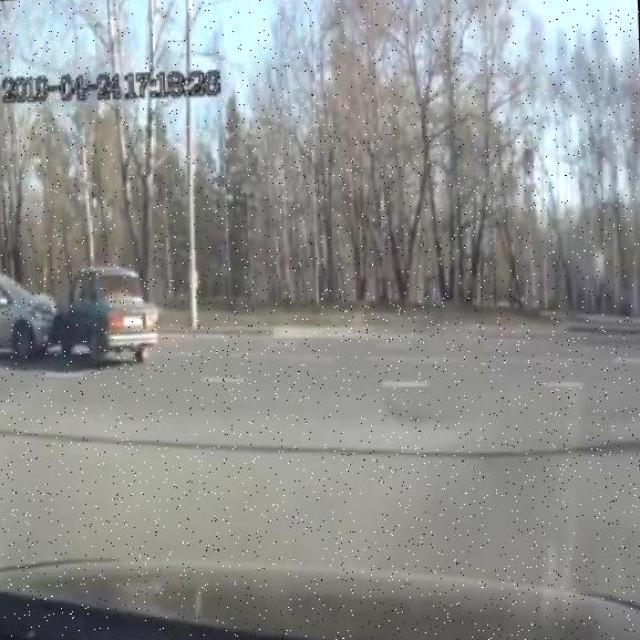accident: (0, 262, 161, 370)
